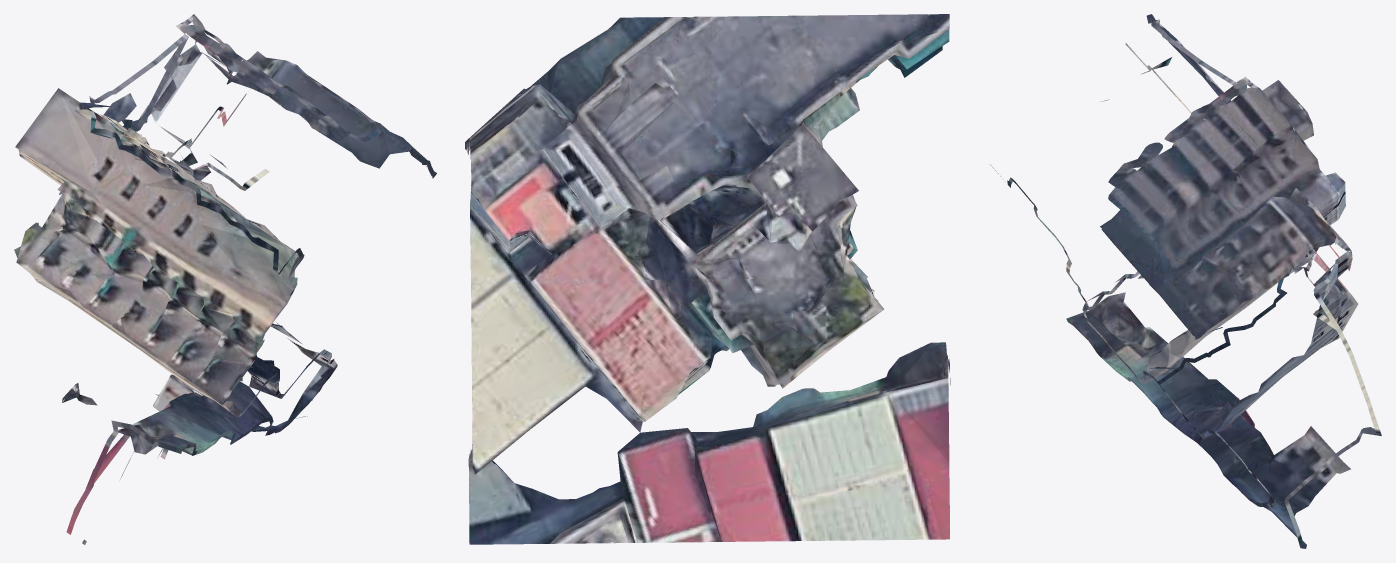
3 renders of one model, left to right at view 1: azimuth 30°, elevation 25°; view 2: azimuth 150°, elevation 25°; view 3: azimuth 270°, elevation 25°, orthographic. The views are drawn at different scales.
Bounding box in the file's own units: 39.01 × 43.95 × 39.42.
1 material, 1 textured.
